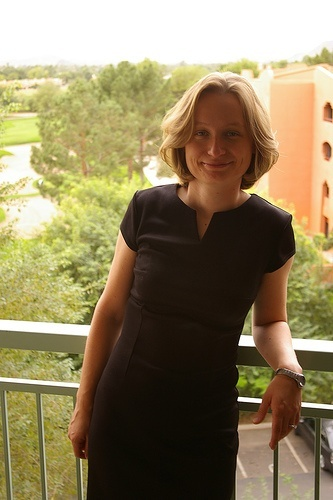head: (176, 71, 262, 190)
person: (64, 71, 307, 497)
